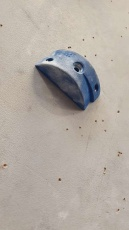Pinch: (34, 46, 102, 110)
